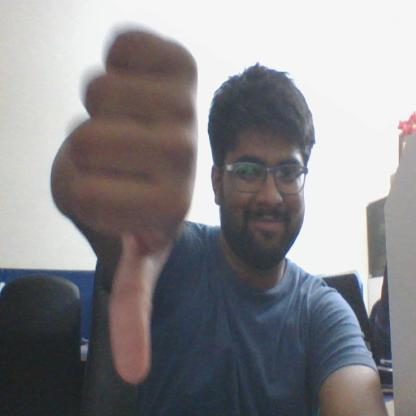thumbs-down: (62, 23, 201, 385)
